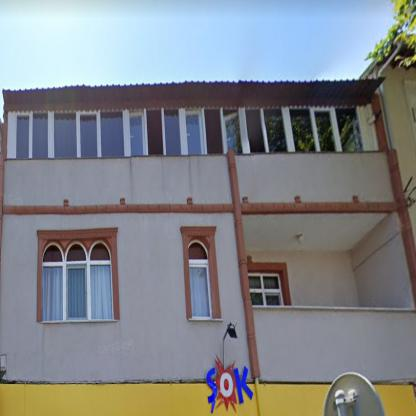window: (16, 110, 363, 155), (42, 243, 112, 319), (189, 242, 212, 317), (249, 276, 282, 305)
